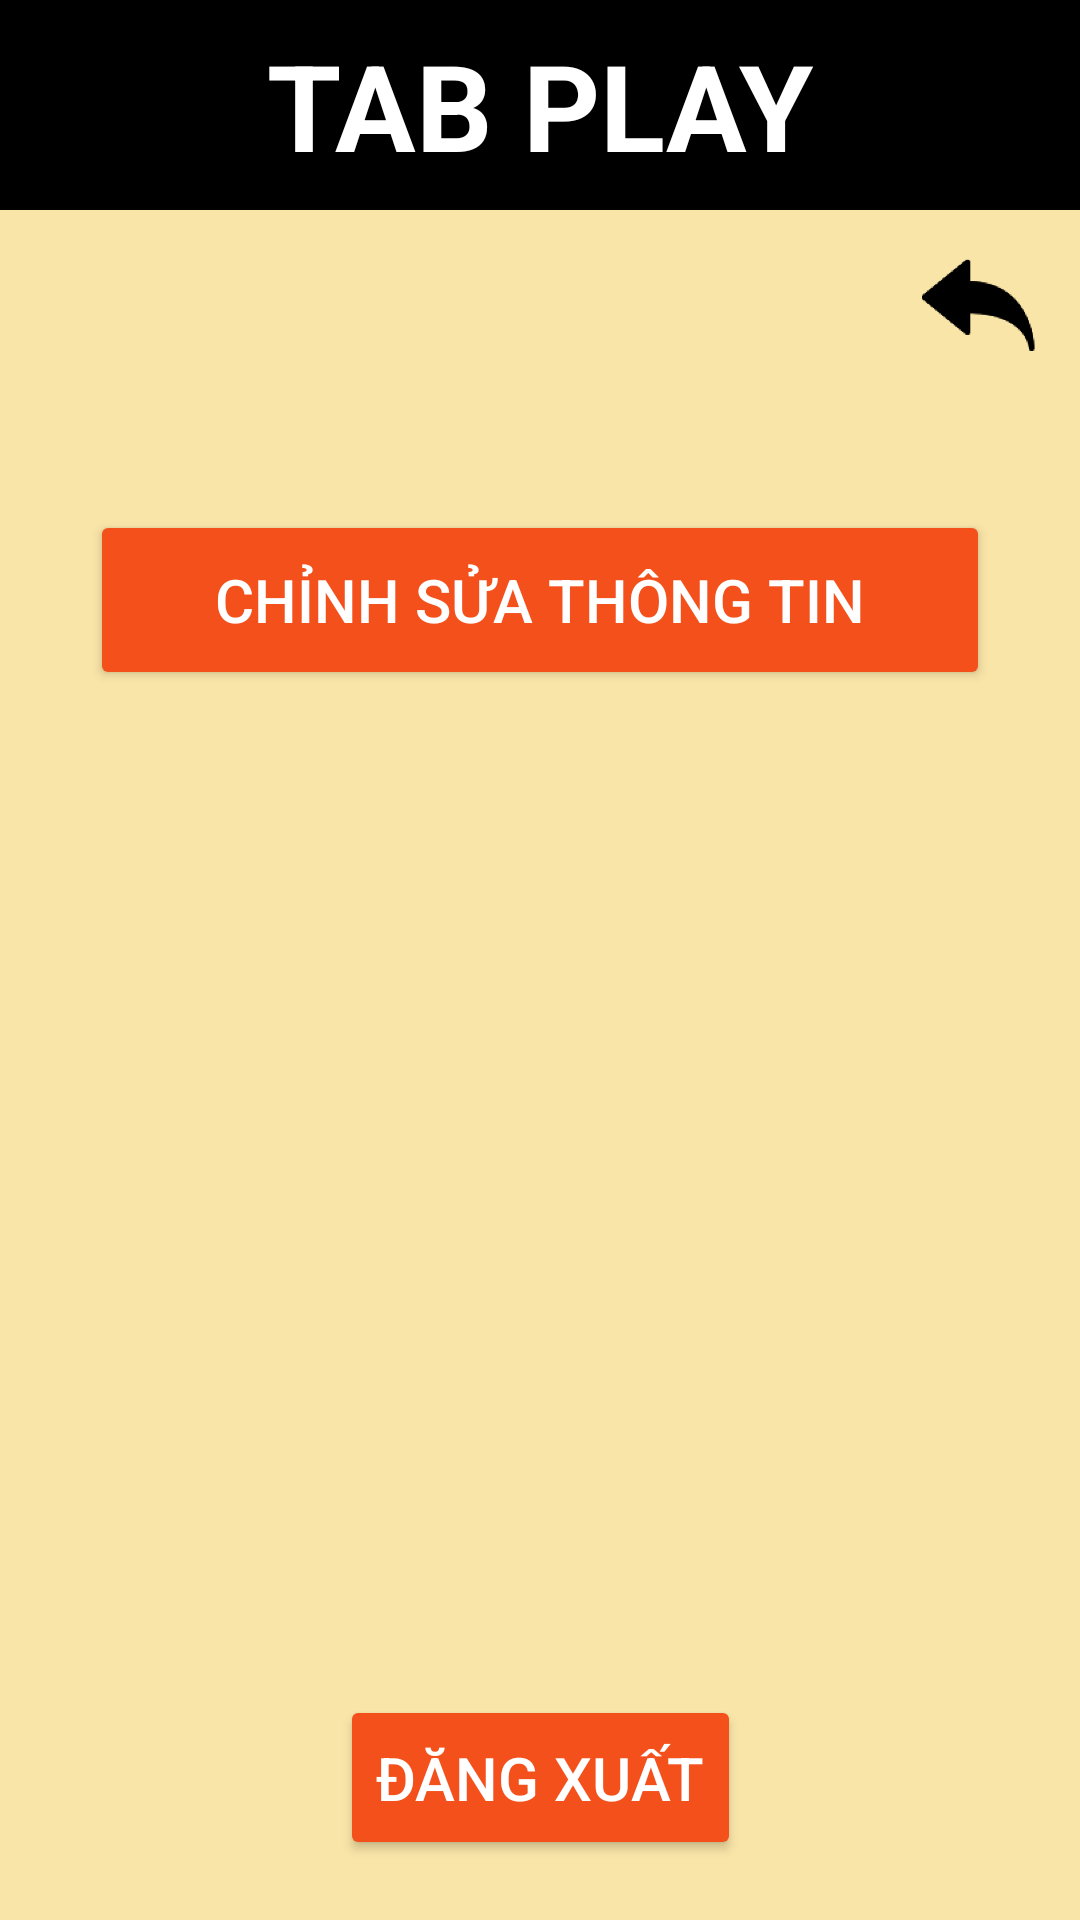

Where to tap for icons on this 1080×1920 app screen, as [x,y]:
back: [978,305]
